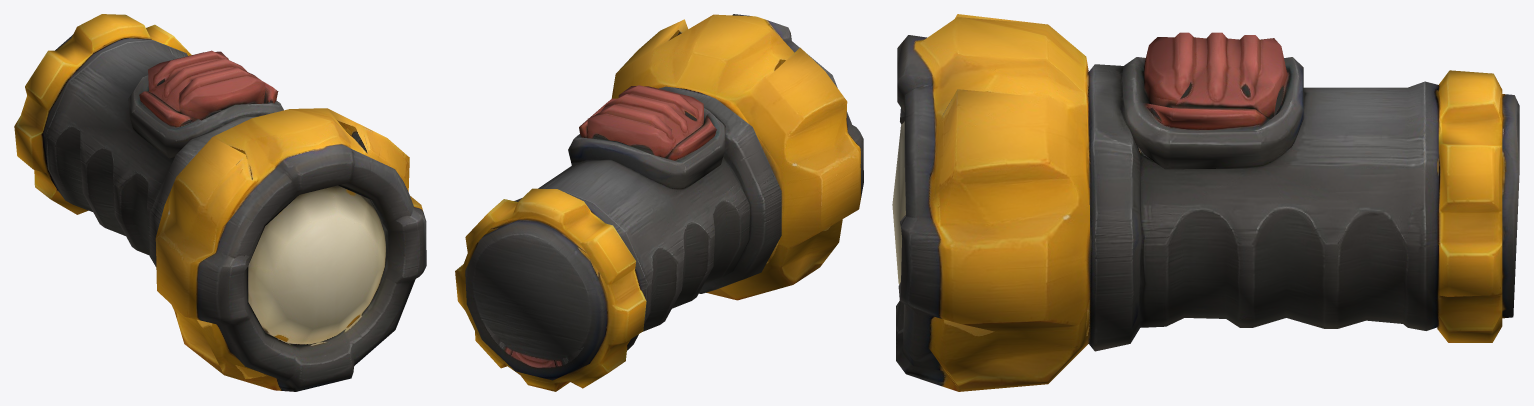
File: LL_FlashlightPickup.fbx
The picture shows the model from 3 angles, left to right: view 1: azimuth 30°, elevation 25°; view 2: azimuth 150°, elevation 25°; view 3: azimuth 270°, elevation 25°; orthographic projection. The views are drawn at different scales.
Visible parts, largest first — view 1: tripo_node_afaea6f7; view 2: tripo_node_afaea6f7; view 3: tripo_node_afaea6f7.
Part boxes in pixels (x1,y1,x2,y2): tripo_node_afaea6f7: (14,14,426,391); tripo_node_afaea6f7: (455,14,863,391); tripo_node_afaea6f7: (892,14,1519,391).
Bounding box in the file's own units: 56.46 × 97.81 × 58.
Materials: 1 (1 with a texture image).
